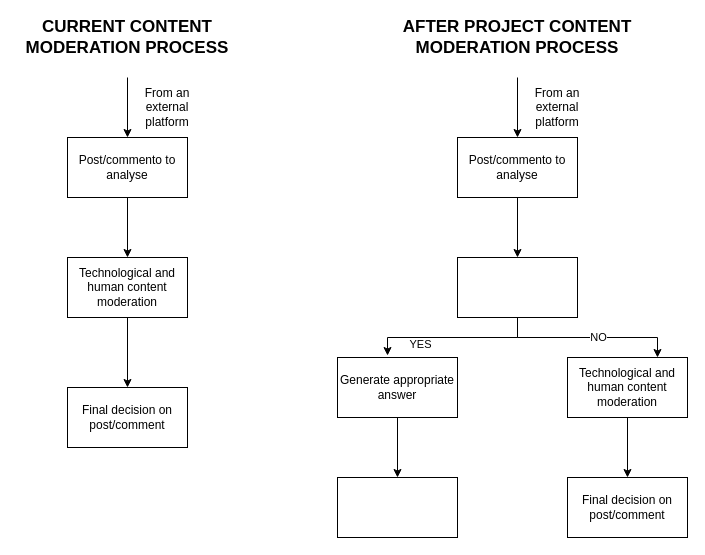
Image size: 705x555. Some labels were removed from this diagram. The centre of each missing label's shape, as x and y in pixels:
"Direct Reply or Supervised Reply (based on customer chosen strategy)" belongs at [397,507].
"Smart Content Moderation : Is the post sexist/racist?" belongs at [517,287].
